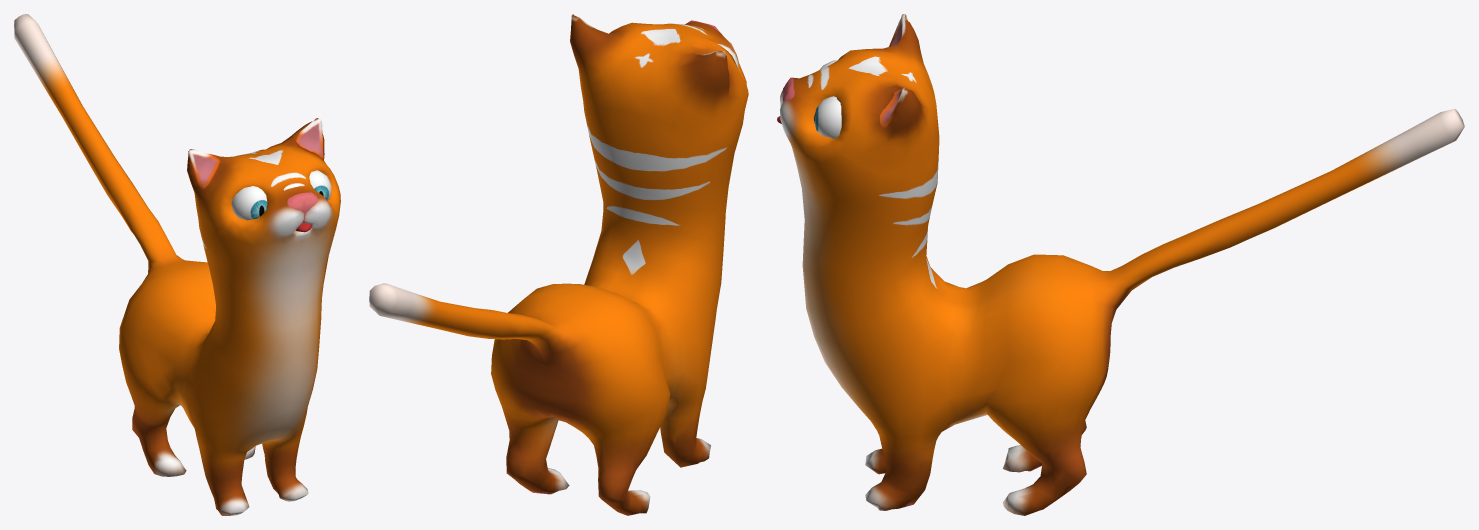
File: StandardCat.FBX
3 views of the same model, side by side, from view 1: azimuth 30°, elevation 25°; view 2: azimuth 150°, elevation 25°; view 3: azimuth 270°, elevation 25° (orthographic). The views are drawn at different scales.
Parts seen in each view (by area): view 1: Cat_Group62340, eye1, eye2; view 2: Cat_Group62340; view 3: Cat_Group62340, eye2.
Part boxes in pixels (x1,y1,x2,y2): Cat_Group62340: [14, 14, 340, 515]; eye1: [231, 186, 267, 220]; eye2: [309, 170, 331, 200]; Cat_Group62340: [369, 14, 748, 515]; Cat_Group62340: [780, 14, 1464, 515]; eye2: [814, 96, 841, 138].
Bounding box in the file's own units: 14.36 × 36.61 × 52.1.
